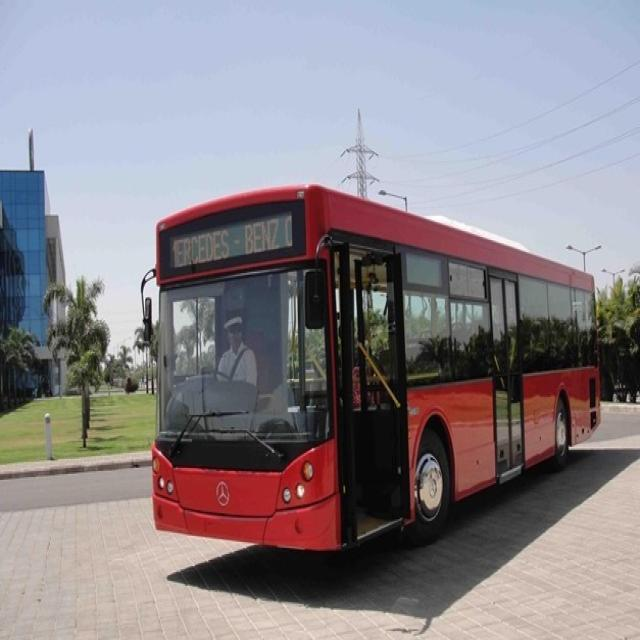bus: (151, 185, 601, 550)
